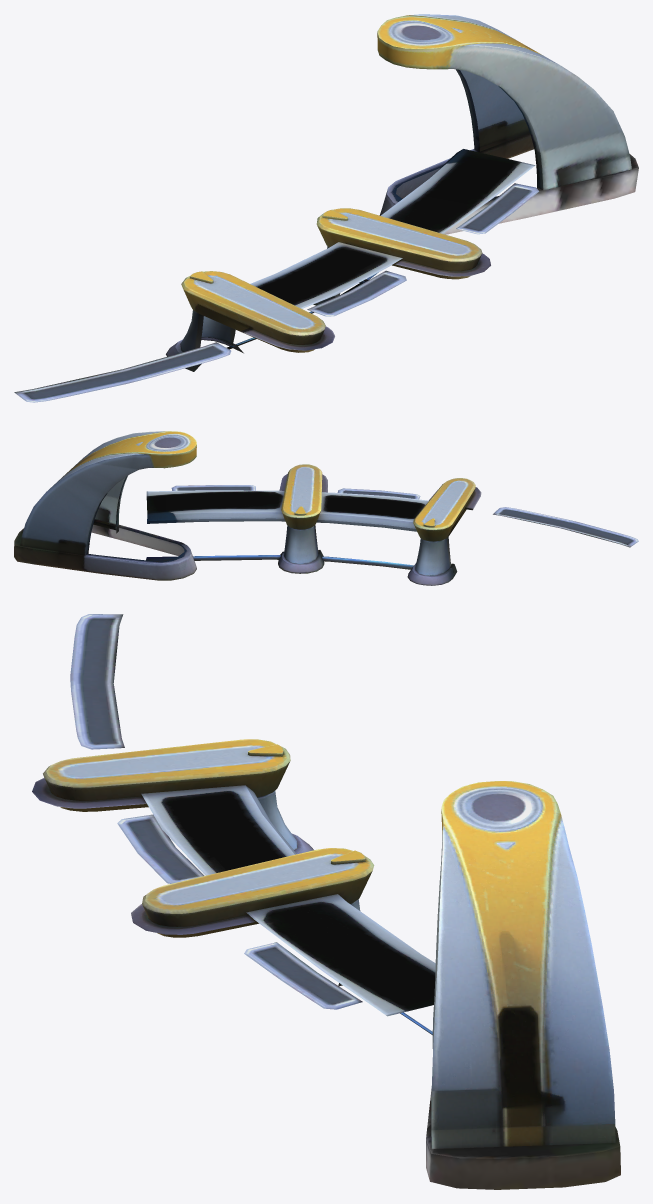
The model's file is pref_sm_4v4beachtech_bk_topblock_L01b_lv2.fbx.
3 renders of one model, top to bottom at view 1: azimuth 30°, elevation 25°; view 2: azimuth 150°, elevation 25°; view 3: azimuth 270°, elevation 25°, orthographic. The views are drawn at different scales.
Visible parts, largest first — view 1: pref_sm_4v4beachtech_bk_topblock_L01b_lv2; view 2: pref_sm_4v4beachtech_bk_topblock_L01b_lv2; view 3: pref_sm_4v4beachtech_bk_topblock_L01b_lv2.
Part boxes in pixels (left/top/right/bottom): pref_sm_4v4beachtech_bk_topblock_L01b_lv2: left=14, top=14, right=638, bottom=402; pref_sm_4v4beachtech_bk_topblock_L01b_lv2: left=14, top=431, right=638, bottom=585; pref_sm_4v4beachtech_bk_topblock_L01b_lv2: left=32, top=614, right=620, bottom=1189.
Bounding box in the file's own units: 18.01 × 4.32 × 9.11.
